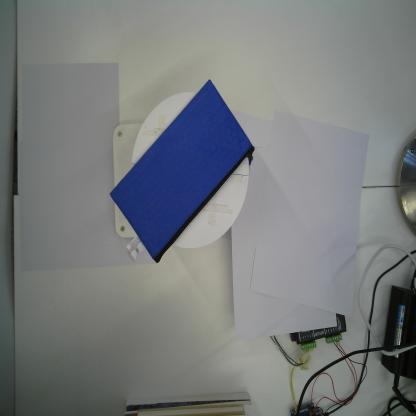Stationery: (109, 76, 255, 264)
